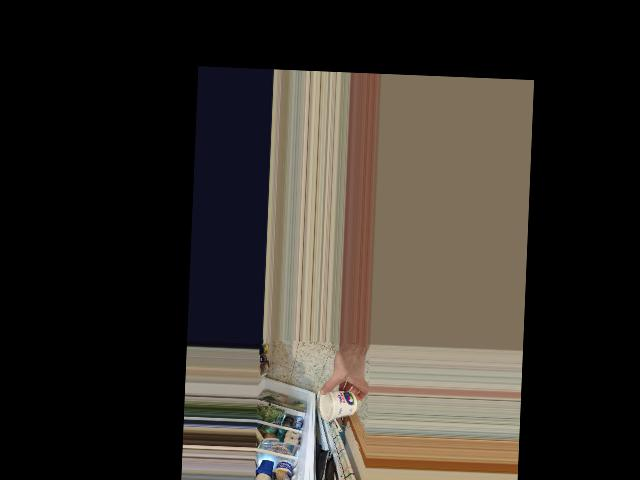cotage: (319, 386, 356, 422)
